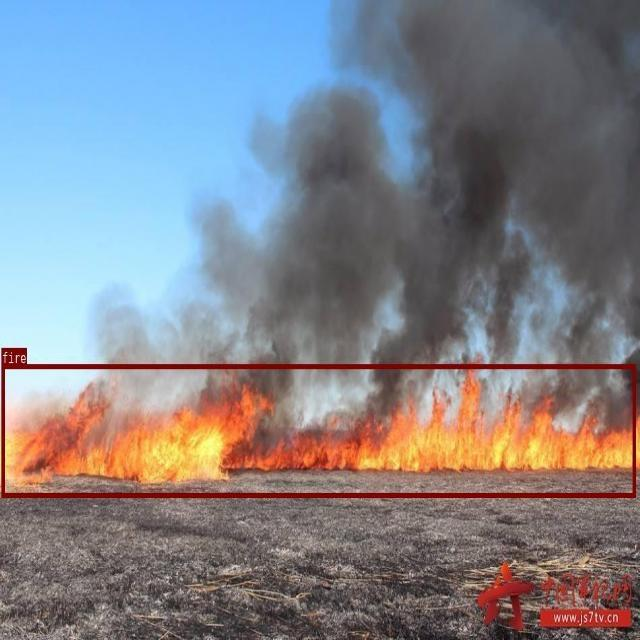fire: (1, 364, 635, 497)
